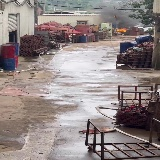fire: (116, 28, 126, 32)
